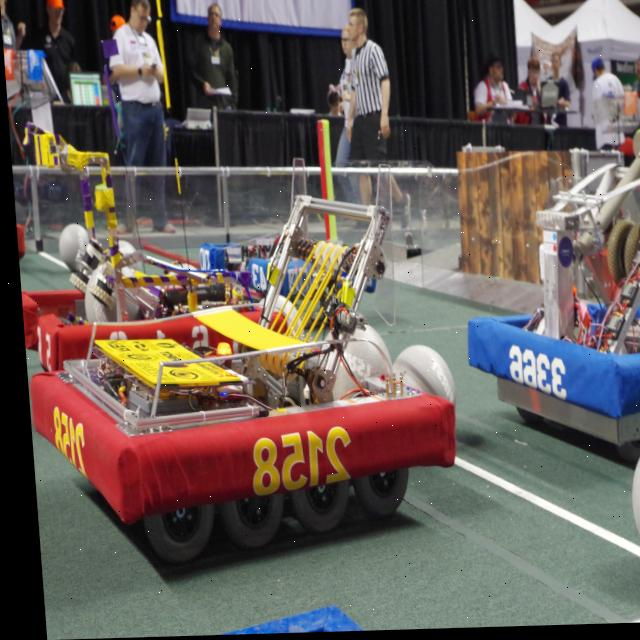robot: (12, 194, 459, 542), (7, 116, 285, 373), (451, 159, 640, 467), (190, 198, 376, 308)
